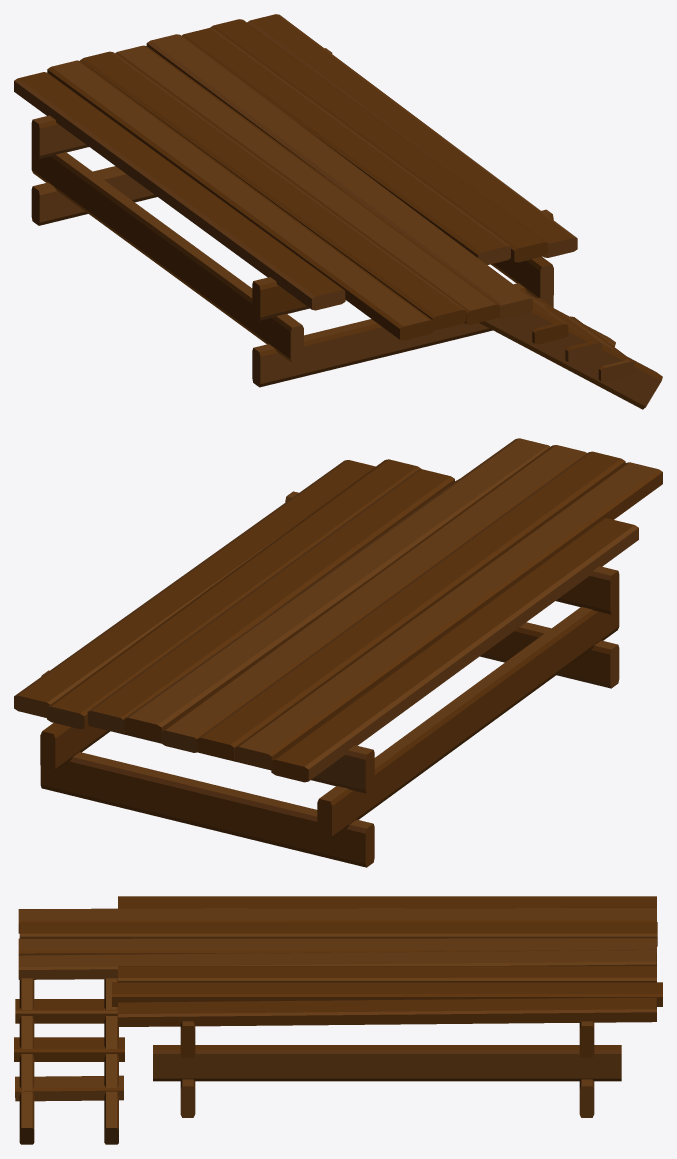
The model's file is platform.fbx.
The picture shows the model from 3 angles, top to bottom: view 1: azimuth 30°, elevation 25°; view 2: azimuth 150°, elevation 25°; view 3: azimuth 270°, elevation 25°; orthographic projection. The views are drawn at different scales.
Parts seen in each view (by area): view 1: Cube.030; view 2: Cube.030; view 3: Cube.030.
Boxes of the visible parts, x1,y1,x2,y2 form: Cube.030: (14,14,662,409); Cube.030: (14,438,662,867); Cube.030: (14,896,662,1144).
Bounding box in the file's own units: 353 × 157 × 697.
